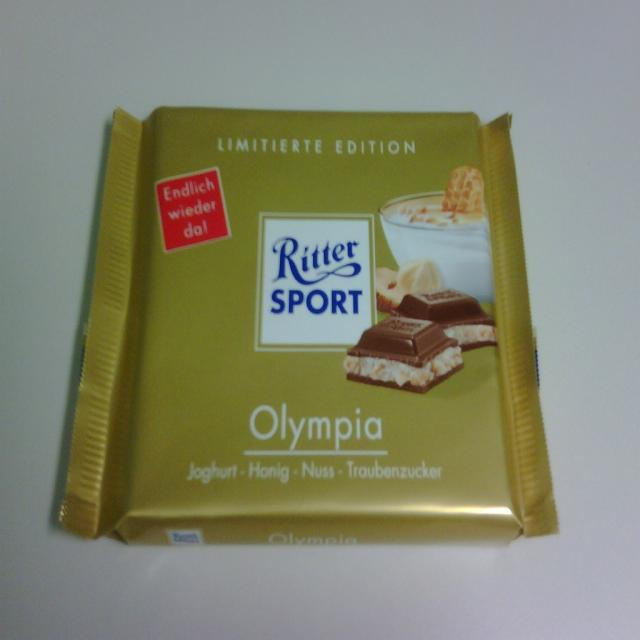rittersport: (254, 211, 382, 359)
